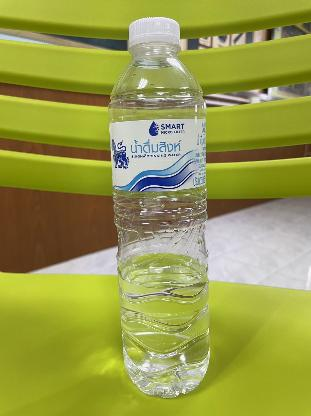Plastic Bottle: (109, 15, 213, 401)
